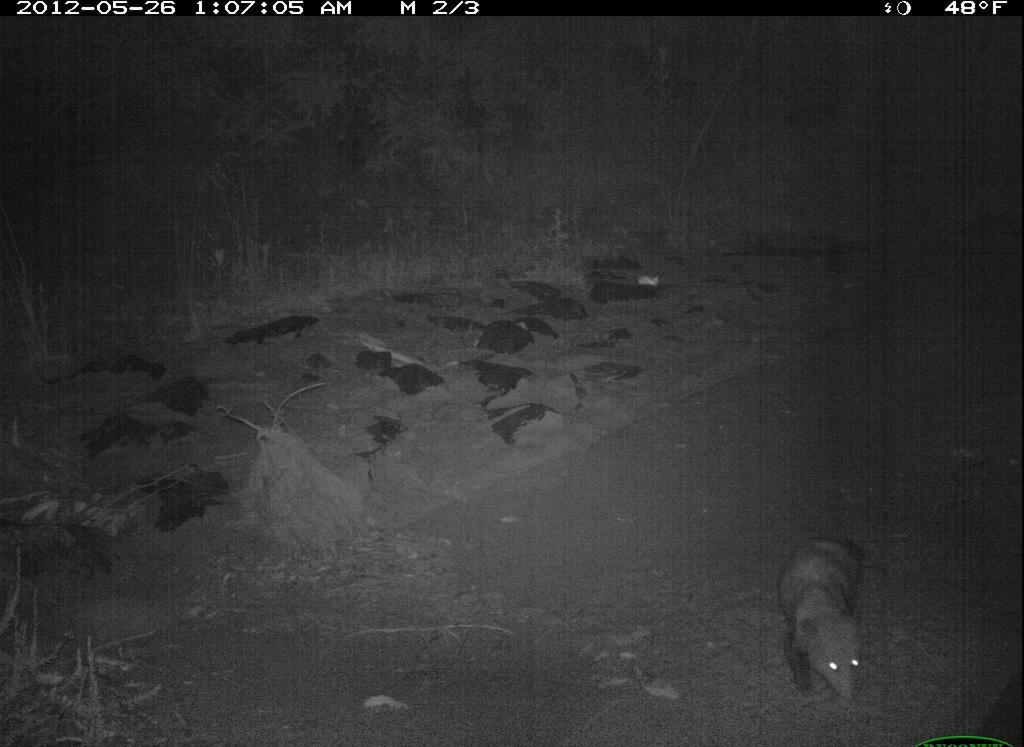opossum: (771, 523, 879, 716)
